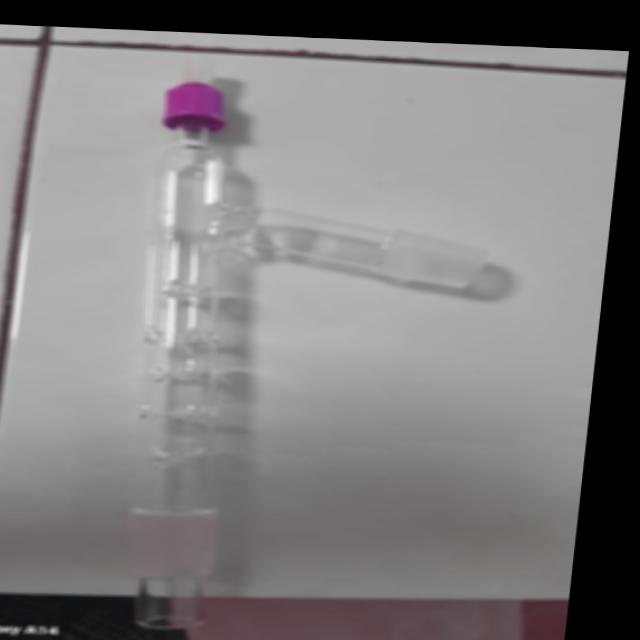Atmospherical Fractional Distillation: (71, 69, 530, 640)
